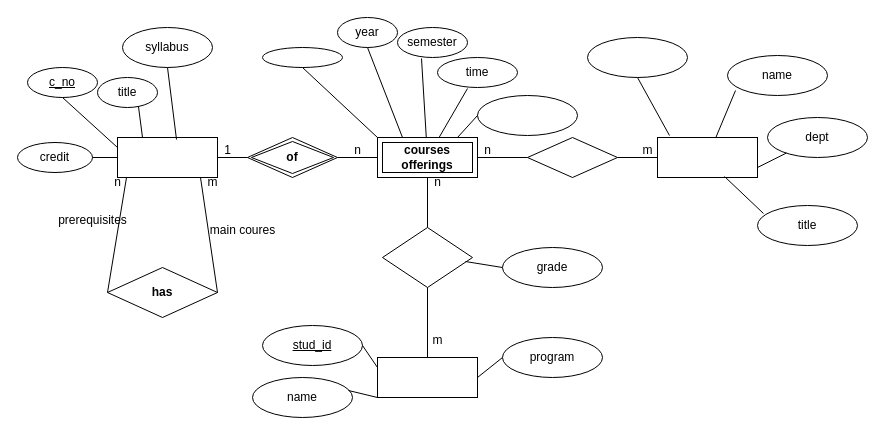
Some shapes in this 885 by 435 pixel diagram are drawn without their labels. Here are the shapes that lost their labels. From the top down, the centre of each, then its label:
the point at 302,57: secno
the point at 637,57: id_no
the point at 527,115: classroom
the point at 167,157: courses
the point at 572,157: teaches
the point at 707,157: instructor
the point at 427,257: enroll
the point at 427,377: student
